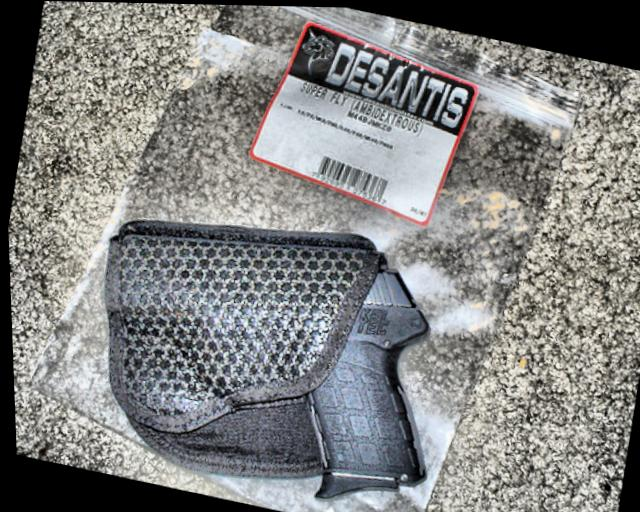pistol: (30, 182, 469, 504)
